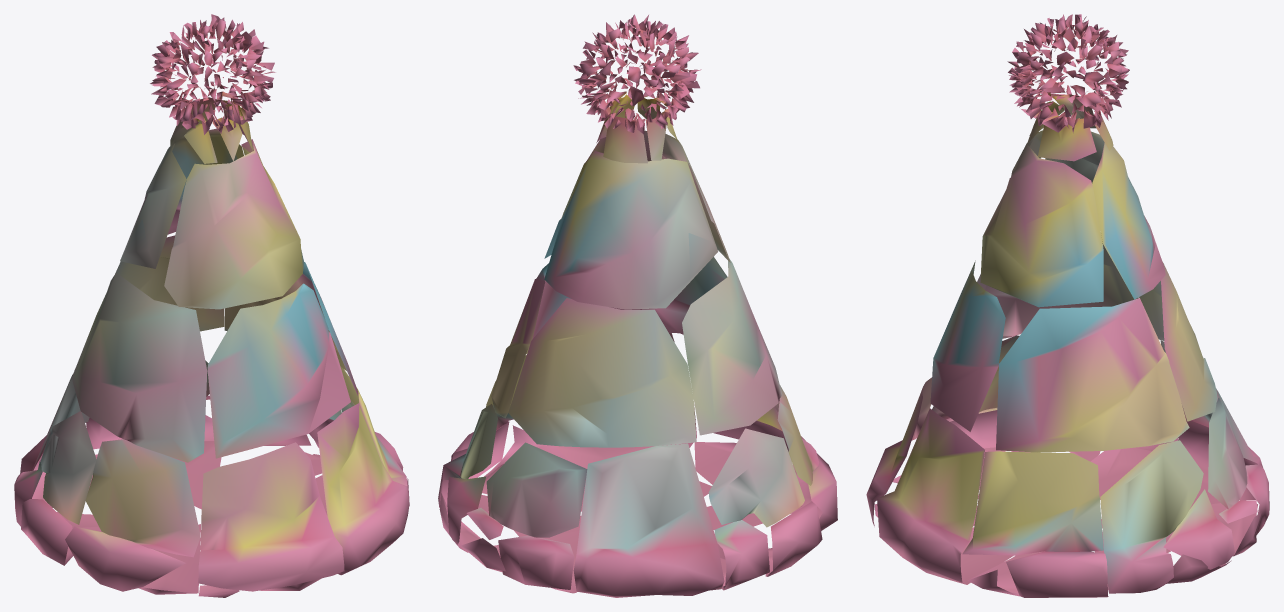
File: party-cone.fbx
3 views of the same model, side by side, from view 1: azimuth 30°, elevation 25°; view 2: azimuth 150°, elevation 25°; view 3: azimuth 270°, elevation 25° (orthographic).
Parts seen in each view (by area): view 1: SM_Hat_PartyCone; view 2: SM_Hat_PartyCone; view 3: SM_Hat_PartyCone.
Boxes of the visible parts, box(x1,y1,x2,y2) form: SM_Hat_PartyCone: box(14, 14, 409, 597); SM_Hat_PartyCone: box(438, 14, 837, 597); SM_Hat_PartyCone: box(866, 14, 1269, 597).
Size of the model in its own units: 0.1803 by 0.25 by 0.1807.
